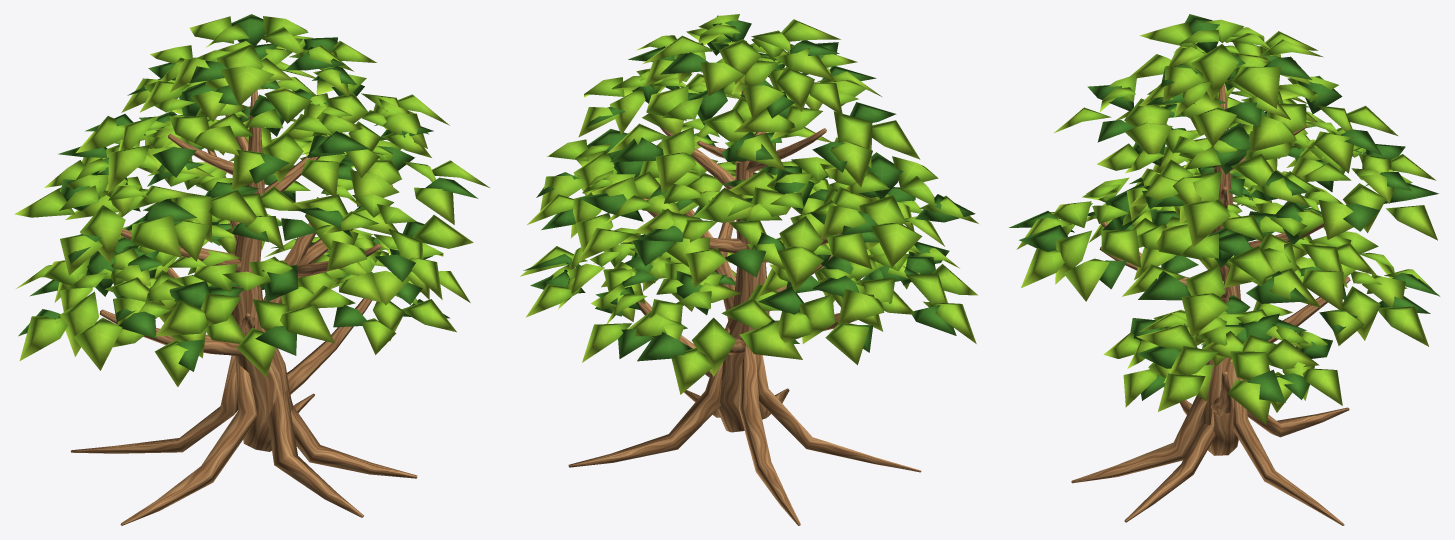
File: WT_MatureTree_LOD2.fbx
The picture shows the model from 3 angles, left to right: view 1: azimuth 30°, elevation 25°; view 2: azimuth 150°, elevation 25°; view 3: azimuth 270°, elevation 25°; orthographic projection. The views are drawn at different scales.
Visible parts, largest first — view 1: WT_MatureTree_Foliage_LOD2, WT_MatureTree_TrunkAndRoots_LOD2, WT_MatureTree_Branches_LOD2; view 2: WT_MatureTree_Foliage_LOD2, WT_MatureTree_TrunkAndRoots_LOD2, WT_MatureTree_Branches_LOD2; view 3: WT_MatureTree_Foliage_LOD2, WT_MatureTree_TrunkAndRoots_LOD2, WT_MatureTree_Branches_LOD2.
Part boxes in pixels (left/top/right/bottom): WT_MatureTree_Foliage_LOD2: left=14, top=14, right=489, bottom=386; WT_MatureTree_TrunkAndRoots_LOD2: left=70, top=90, right=417, bottom=525; WT_MatureTree_Branches_LOD2: left=99, top=115, right=392, bottom=394; WT_MatureTree_Foliage_LOD2: left=520, top=14, right=978, bottom=394; WT_MatureTree_TrunkAndRoots_LOD2: left=568, top=90, right=921, bottom=525; WT_MatureTree_Branches_LOD2: left=638, top=127, right=854, bottom=377; WT_MatureTree_Foliage_LOD2: left=1009, top=14, right=1439, bottom=424; WT_MatureTree_TrunkAndRoots_LOD2: left=1071, top=84, right=1349, bottom=525; WT_MatureTree_Branches_LOD2: left=1099, top=98, right=1350, bottom=416.
Bounding box in the file's own units: 10.15 × 9.15 × 8.4.
